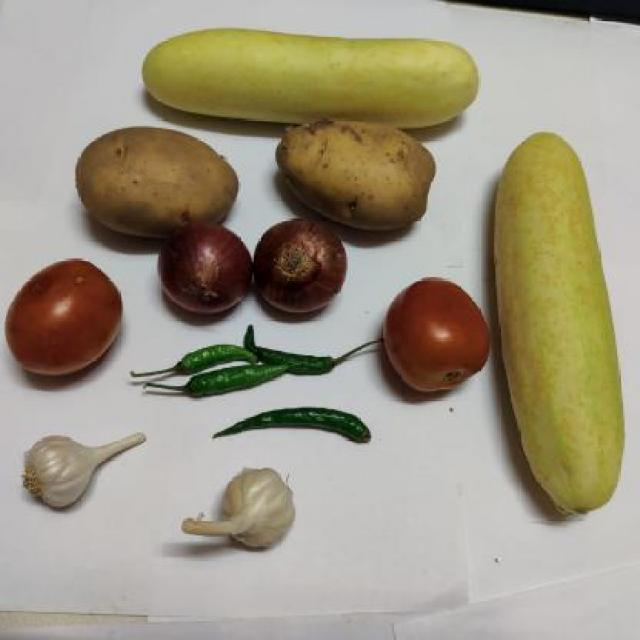Onion: (143, 220, 254, 325), (244, 214, 350, 322)
Potato: (268, 112, 440, 235), (62, 128, 240, 238)
Tomato: (0, 252, 132, 390), (388, 274, 504, 404)
